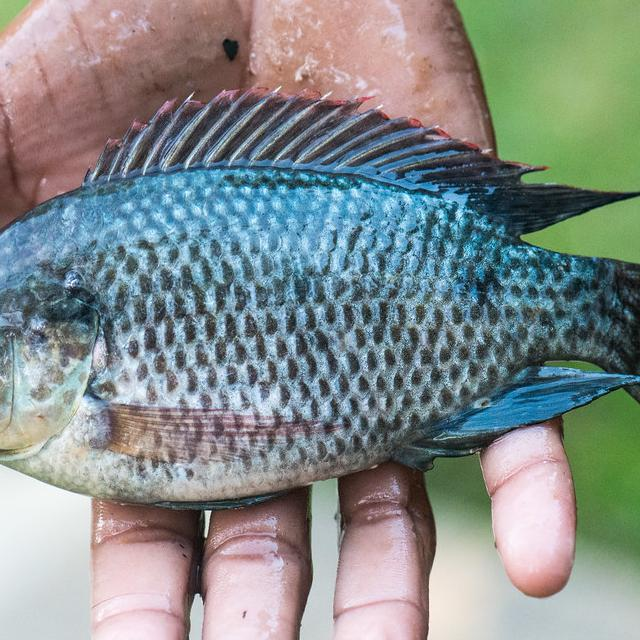fish: (0, 90, 640, 505)
